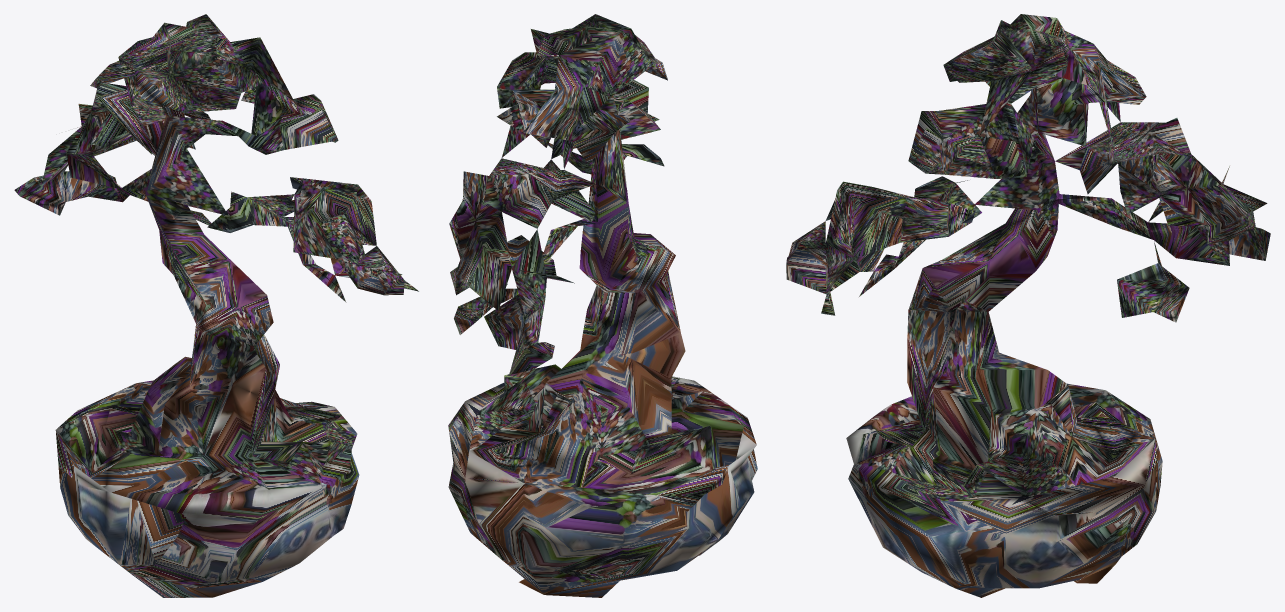
File: bonsai-far.glb
The picture shows the model from 3 angles, left to right: view 1: azimuth 30°, elevation 25°; view 2: azimuth 150°, elevation 25°; view 3: azimuth 270°, elevation 25°; orthographic projection. The views are drawn at different scales.
Parts seen in each view (by area): view 1: tripo_node_61d6abd6-6e3b-4e37-abb4-0c3f2fca4514; view 2: tripo_node_61d6abd6-6e3b-4e37-abb4-0c3f2fca4514; view 3: tripo_node_61d6abd6-6e3b-4e37-abb4-0c3f2fca4514.
Boxes of the visible parts, x1,y1,x2,y2 form: tripo_node_61d6abd6-6e3b-4e37-abb4-0c3f2fca4514: [14, 14, 418, 597]; tripo_node_61d6abd6-6e3b-4e37-abb4-0c3f2fca4514: [448, 14, 757, 597]; tripo_node_61d6abd6-6e3b-4e37-abb4-0c3f2fca4514: [786, 14, 1270, 597].
Size of the model in its own units: 0.5063 by 0.9788 by 0.7967.
Materials: 1 (1 with a texture image).
